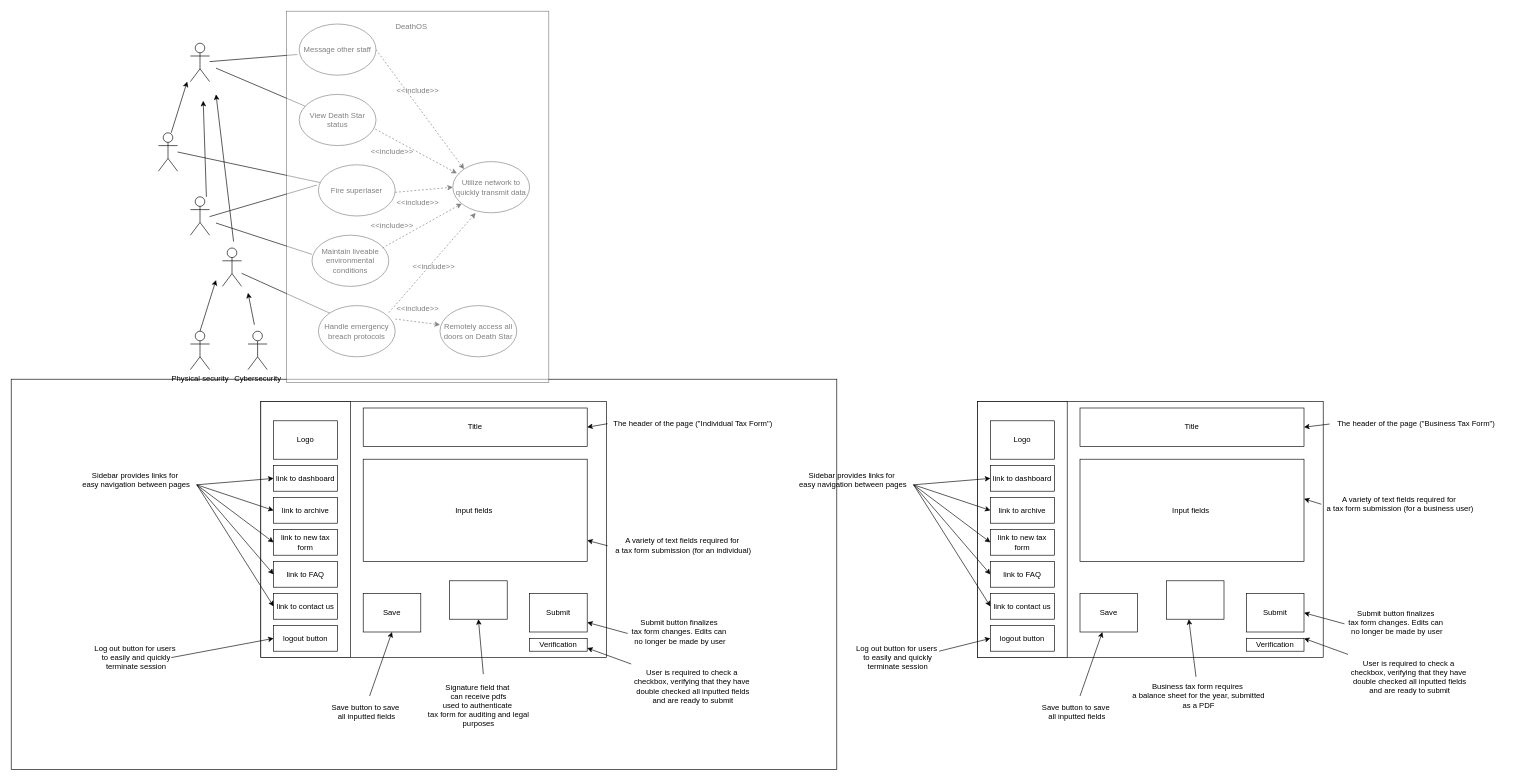
The diagram is 1514 pixels wide and 781 high, and some of its shapes have lost their labels. The box of each missing label's shape, as (x1, y1, x2, y2) in pixels:
Balance sheet: (1166, 580, 1224, 619)
Engineers: (190, 196, 210, 235)
Security: (222, 247, 242, 286)
Senior management: (158, 132, 178, 171)
Signature: (449, 580, 507, 619)
Staff: (190, 43, 210, 82)
